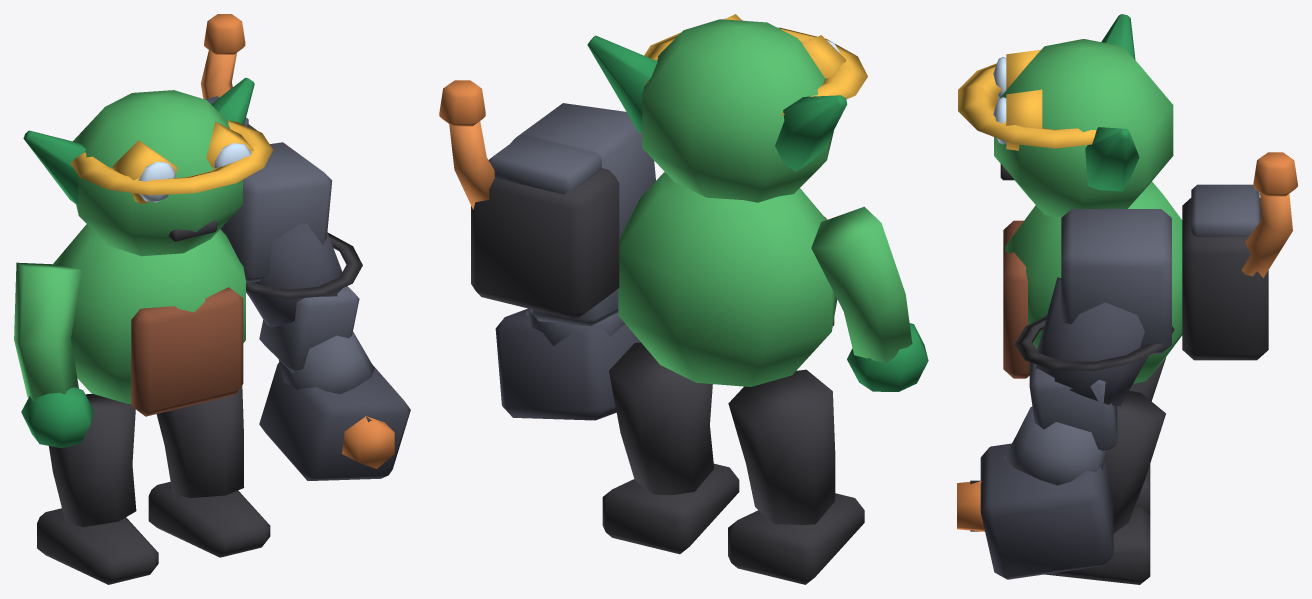
File: goblin_mech.glb
3 renders of one model, left to right at view 1: azimuth 30°, elevation 25°; view 2: azimuth 150°, elevation 25°; view 3: azimuth 270°, elevation 25°, orthographic. The views are drawn at different scales.
Visible parts, largest first — view 1: GoblinEngineer; view 2: GoblinEngineer; view 3: GoblinEngineer.
Part boxes in pixels (<box>): GoblinEngineer: <box>14,14,410,584</box>; GoblinEngineer: <box>439,14,928,584</box>; GoblinEngineer: <box>957,14,1297,584</box>.
Size of the model in its own units: 1.53 by 1.85 by 1.16.
1 material, 1 textured.
